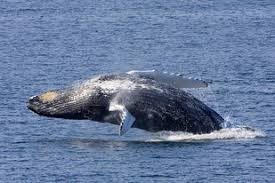humpback: (26, 76, 226, 132)
